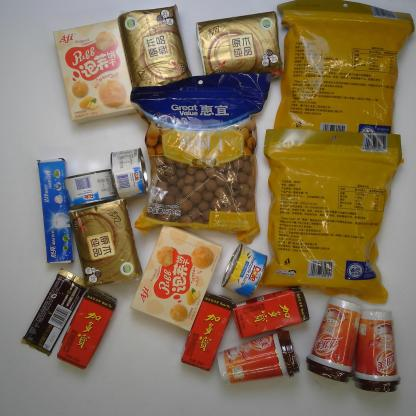Canned Food: (220, 242, 268, 300), (62, 166, 119, 209), (109, 145, 151, 200)
Chocolate: (18, 266, 88, 360)
Dessert: (127, 221, 226, 334), (51, 18, 142, 127)
Dried Food: (254, 123, 404, 306), (127, 68, 275, 247), (266, 0, 416, 166)
Drink: (55, 284, 120, 372), (178, 289, 237, 374), (231, 284, 312, 340)
Instant Drink: (303, 293, 365, 385), (214, 325, 303, 387), (350, 305, 404, 396)
Personal Hygiene: (35, 156, 76, 265)
Tissue: (116, 2, 196, 113), (66, 196, 147, 292), (192, 10, 286, 86)
